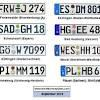0: (29, 46, 34, 54), (92, 5, 97, 13), (97, 46, 100, 55)
1: (35, 66, 40, 75), (34, 25, 39, 33), (92, 46, 96, 55), (30, 66, 34, 75), (97, 5, 100, 14)
2: (29, 5, 34, 13)
4: (89, 26, 95, 33), (39, 5, 44, 13)
6: (94, 67, 100, 75)
7: (23, 46, 28, 54), (34, 5, 39, 13)
8: (39, 24, 44, 33), (88, 5, 92, 13), (95, 26, 99, 33)
9: (40, 46, 44, 55), (40, 66, 44, 75), (35, 46, 39, 54)
A: (4, 25, 8, 33)
B: (88, 66, 93, 75)
D: (10, 25, 15, 33), (76, 5, 81, 13)
E: (65, 45, 70, 54), (60, 5, 65, 14), (77, 25, 82, 33), (66, 25, 71, 33), (82, 25, 87, 33)
F: (0, 5, 3, 13)
G: (21, 24, 26, 33), (0, 46, 4, 54)
H: (81, 67, 87, 75), (27, 25, 32, 34), (85, 45, 90, 54), (61, 26, 65, 34), (81, 46, 85, 54)
I: (5, 66, 10, 75)
J: (21, 5, 27, 13)
L: (72, 67, 77, 76)
M: (22, 66, 28, 75), (16, 66, 22, 75), (80, 5, 86, 14)
P: (0, 66, 5, 75), (66, 67, 71, 76)
R: (4, 5, 9, 13)
S: (71, 46, 76, 55), (64, 5, 69, 14), (0, 25, 4, 33)
W: (16, 46, 22, 55), (60, 45, 65, 55), (10, 5, 15, 13)
oe: (5, 46, 10, 54)
